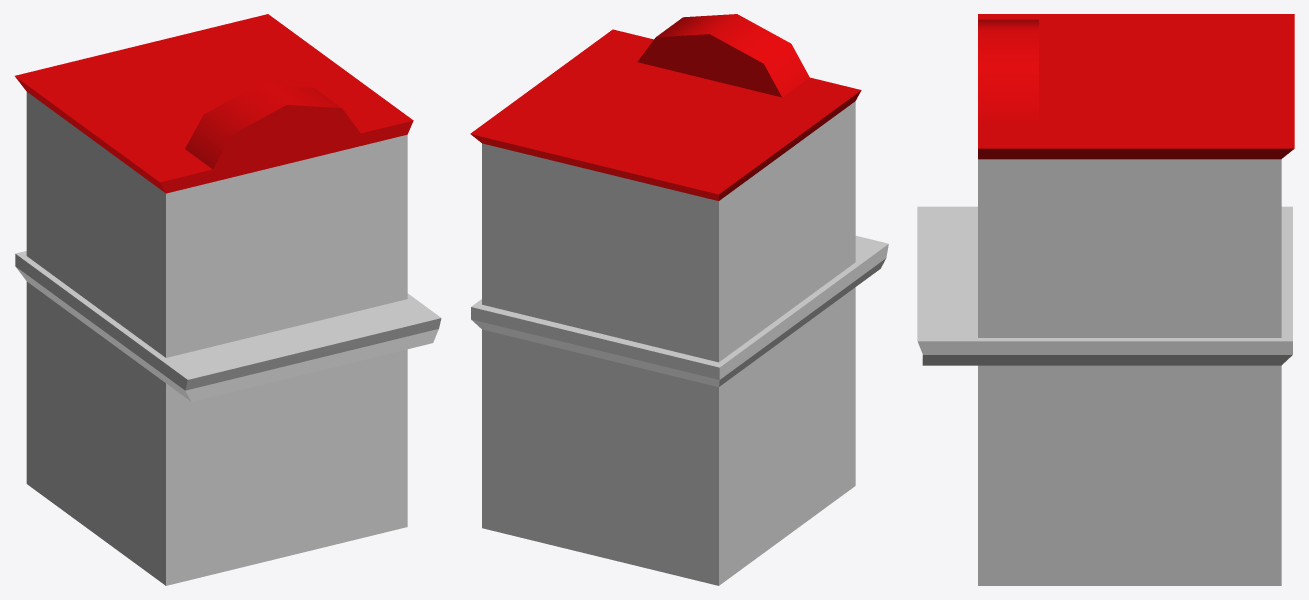
The model's file is House1LOD.fbx.
3 views of the same model, side by side, from view 1: azimuth 30°, elevation 25°; view 2: azimuth 150°, elevation 25°; view 3: azimuth 270°, elevation 25° (orthographic). The views are drawn at different scales.
Parts seen in each view (by area): view 1: House1_LOD1; view 2: House1_LOD1; view 3: House1_LOD1.
Part boxes in pixels (bbox=[...]): House1_LOD1: bbox=[15, 14, 441, 585]; House1_LOD1: bbox=[470, 14, 888, 585]; House1_LOD1: bbox=[917, 14, 1294, 585].
Bounding box in the file's own units: 525 × 892 × 621.
